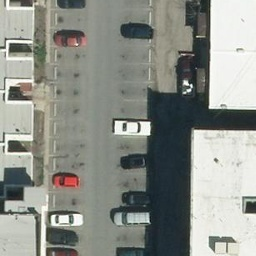car: (178, 57, 197, 97), (112, 119, 155, 136), (120, 21, 155, 40), (54, 28, 86, 48), (49, 210, 84, 228), (113, 209, 150, 226), (44, 231, 76, 247), (121, 156, 150, 173), (120, 192, 154, 206), (52, 172, 81, 188), (55, 1, 84, 9)
